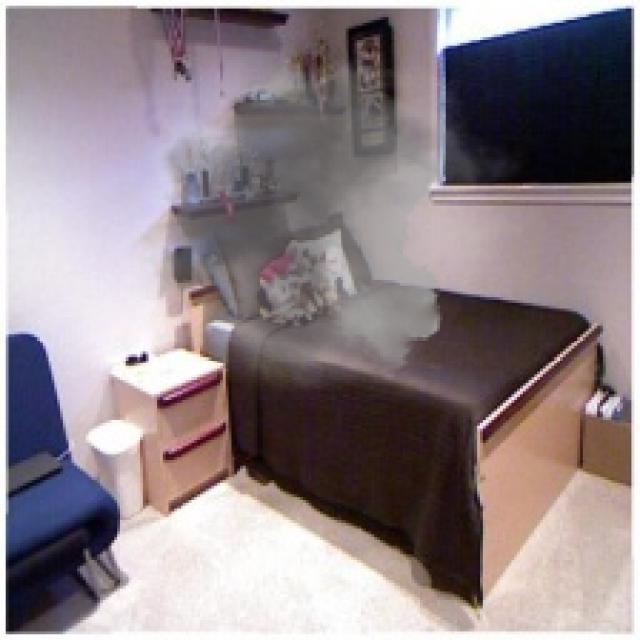Smoke: (111, 46, 526, 392)
